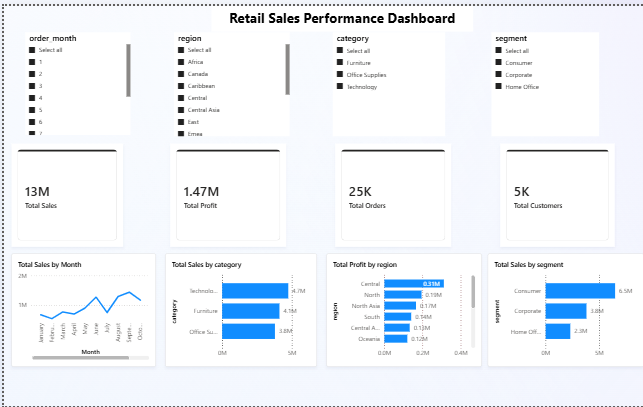

This screenshot's page, from the dashboard's own definition file:
{"tool":"powerbi","page":{"name":"Home","canvas":[1280,800],"ordinal":0},"visuals":[{"type":"cardVisual","title":"Retail Sales Performance Dashboard","fields":{"Data":["superstore_cleaned_complete.Total Sales"]},"box":[15.9,273.9,223.8,206.7],"z":0},{"type":"cardVisual","fields":{"Data":["superstore_cleaned_complete.Total Profit"]},"box":[331.4,273.9,232.3,206.7],"z":1000},{"type":"cardVisual","fields":{"Data":["superstore_cleaned_complete.Total Orders"]},"box":[661.6,273.9,232.3,206.7],"z":2000},{"type":"cardVisual","fields":{"Data":["superstore_cleaned_complete.Total Customers"]},"box":[992.9,273.9,229.9,206.7],"z":3000},{"type":"lineChart","fields":{"Category":["superstore_cleaned_complete.order_date.Variation.Date Hierarchy.Month"],"Y":["superstore_cleaned_complete.Total Sales"]},"box":[15.9,494,288.6,226.2],"z":4000},{"type":"clusteredBarChart","fields":{"Category":["superstore_cleaned_complete.category"],"Y":["superstore_cleaned_complete.Total Sales"]},"box":[322.8,493.8,303.3,226.2],"z":5000},{"type":"clusteredBarChart","fields":{"Category":["superstore_cleaned_complete.region"],"Y":["superstore_cleaned_complete.Total Profit"]},"box":[644.4,493.8,310.6,226.2],"z":6000},{"type":"clusteredBarChart","fields":{"Category":["superstore_cleaned_complete.segment"],"Y":["superstore_cleaned_complete.Total Sales"]},"box":[968.5,494,311.8,226.2],"z":7000},{"type":"textbox","box":[415.8,0,523.4,51.4],"z":8000},{"type":"slicer","fields":{"Values":["superstore_cleaned_complete.order_month"]},"box":[42.8,51.4,210.3,205.4],"z":9000},{"type":"slicer","fields":{"Values":["superstore_cleaned_complete.region"]},"box":[339.9,51.4,231.1,207.9],"z":10000},{"type":"slicer","fields":{"Values":["superstore_cleaned_complete.category"]},"box":[657.9,51.4,225,207.9],"z":11000},{"type":"slicer","fields":{"Values":["superstore_cleaned_complete.segment"]},"box":[975.8,51.4,215.2,207.9],"z":12000}]}

Visuals, with their boxes in screenshot pixels (x1, y1, x2, y2), scaled from the page's 1280x800 canvas onto the 643x407 screenshot:
"Retail Sales Performance Dashboard" cardVisual: [x1=8, y1=139, x2=120, y2=245]
cardVisual - superstore_cleaned_complete.Total Profit: [x1=166, y1=139, x2=283, y2=245]
cardVisual - superstore_cleaned_complete.Total Orders: [x1=332, y1=139, x2=449, y2=245]
cardVisual - superstore_cleaned_complete.Total Customers: [x1=499, y1=139, x2=614, y2=245]
lineChart - superstore_cleaned_complete.order_date.Variation.Date Hierarchy.Month x superstore_cleaned_complete.Total Sales: [x1=8, y1=251, x2=153, y2=366]
clusteredBarChart - superstore_cleaned_complete.category x superstore_cleaned_complete.Total Sales: [x1=162, y1=251, x2=315, y2=366]
clusteredBarChart - superstore_cleaned_complete.region x superstore_cleaned_complete.Total Profit: [x1=324, y1=251, x2=480, y2=366]
clusteredBarChart - superstore_cleaned_complete.segment x superstore_cleaned_complete.Total Sales: [x1=487, y1=251, x2=642, y2=366]
textbox: [x1=209, y1=0, x2=472, y2=26]
slicer - superstore_cleaned_complete.order_month: [x1=22, y1=26, x2=127, y2=131]
slicer - superstore_cleaned_complete.region: [x1=171, y1=26, x2=287, y2=132]
slicer - superstore_cleaned_complete.category: [x1=330, y1=26, x2=444, y2=132]
slicer - superstore_cleaned_complete.segment: [x1=490, y1=26, x2=598, y2=132]
